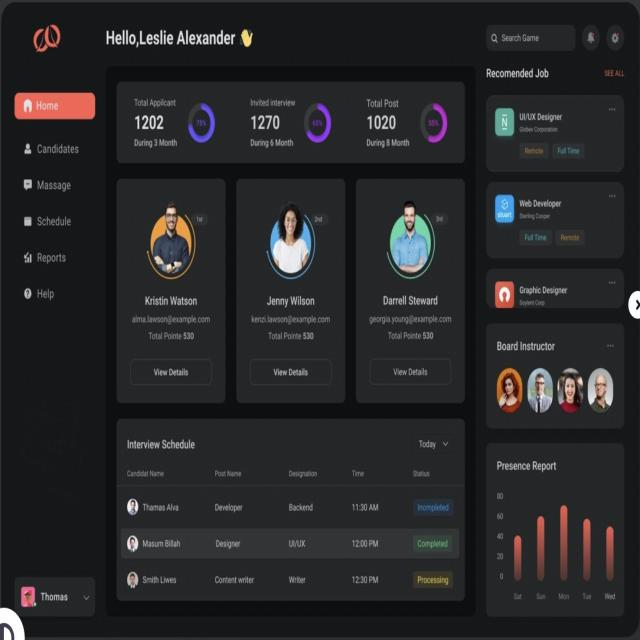button: (130, 360, 212, 386), (250, 360, 332, 385), (369, 360, 450, 385), (606, 22, 624, 50), (583, 21, 600, 50)
input: (487, 24, 575, 51)
select: (16, 578, 95, 617)
